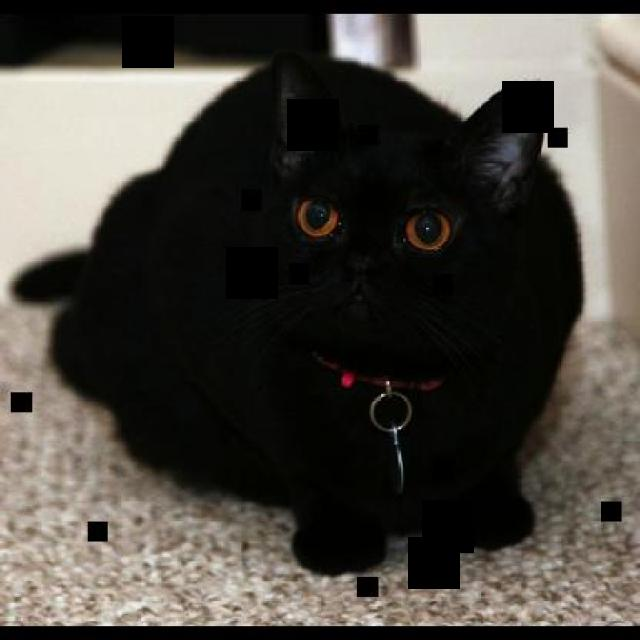unauthorized: (9, 48, 585, 577)
